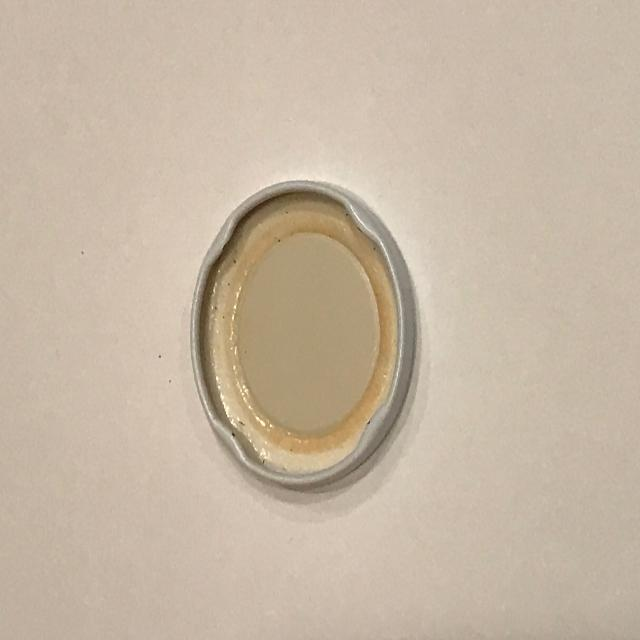metal: (189, 178, 420, 494)
